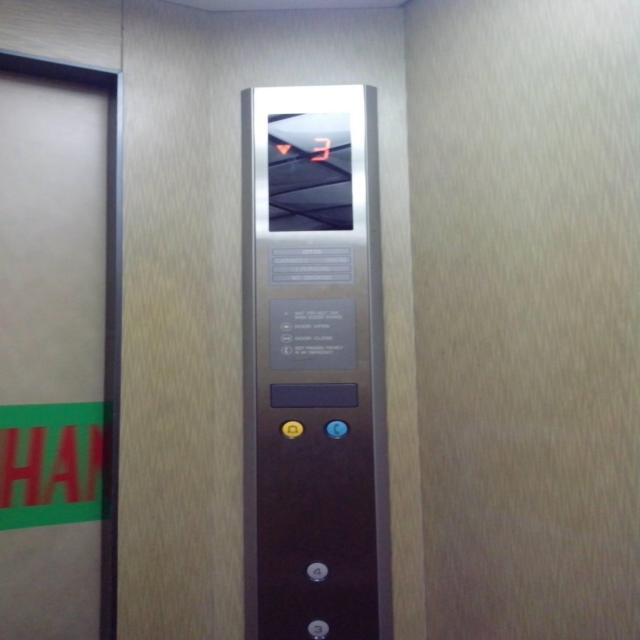3: (302, 618, 331, 640)
4: (302, 560, 331, 582)
alarm: (277, 419, 307, 438)
call: (320, 419, 349, 438)
led: (263, 109, 355, 233)
